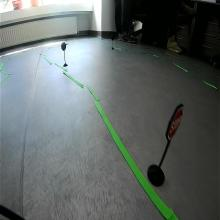stop: (166, 104, 186, 140)
